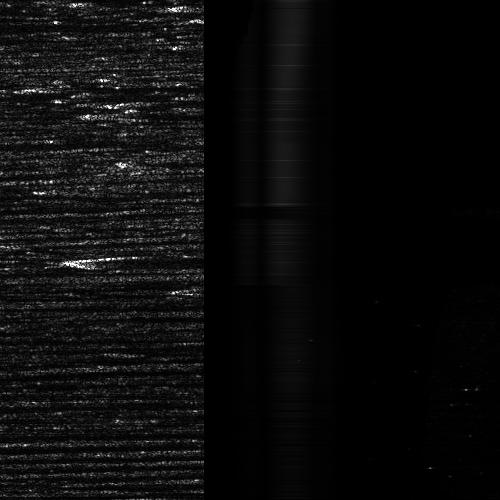rock: (0, 138, 16, 149), (88, 257, 99, 262)
shadow: (0, 138, 153, 149), (0, 190, 143, 197), (94, 257, 195, 262)
